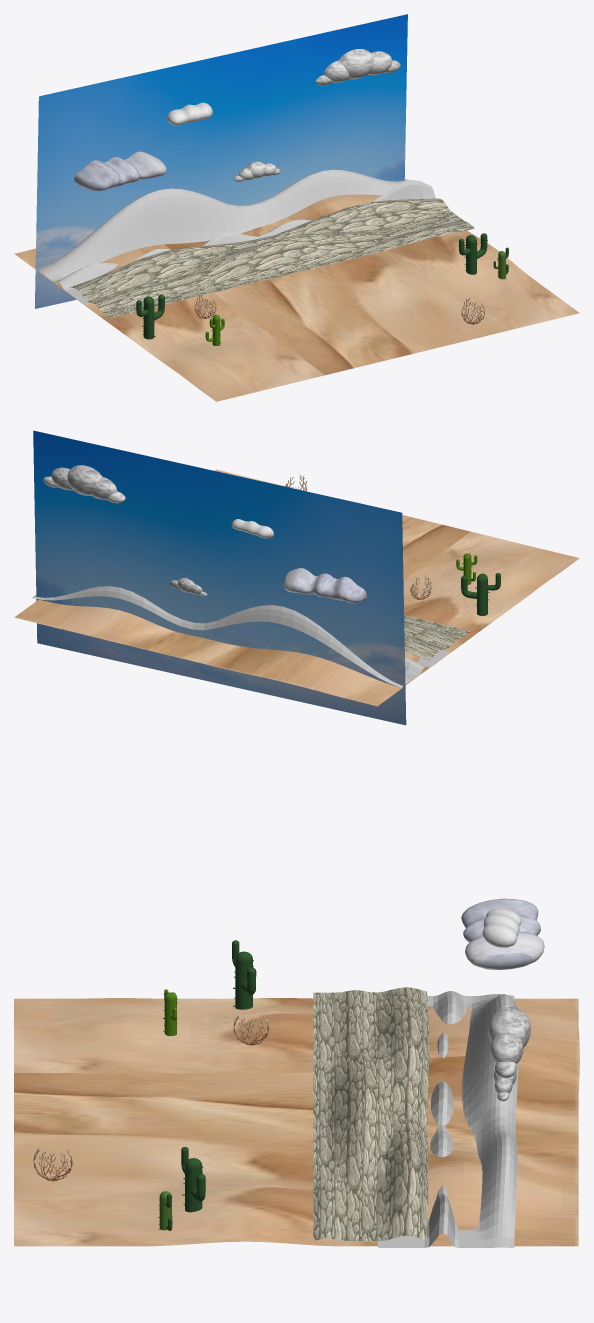
Rendered from desierto protipo. version final sin animaciones.fbx.
3 views of the same model, one above another, from view 1: azimuth 30°, elevation 25°; view 2: azimuth 150°, elevation 25°; view 3: azimuth 270°, elevation 25° (orthographic). The views are drawn at different scales.
Parts seen in each view (by area): view 1: Plane.001, Plane, Plane.003, Plane.002, Mball.010, Sphere.002, NurbsPath.002, NurbsPath.007, Mball.008, Sphere.001; view 2: Plane.001, Plane, Plane.002, Mball.010, Plane.003, Sphere.002, NurbsPath.002, Mball.008, Sphere.001; view 3: Plane, Plane.003, Plane.002, Mball.010, Sphere.002, NurbsPath.002, Mball.008, NurbsPath.007.
Boxes of the visible parts, box(x1,y1,x2,y2) form: Plane.001: box(35, 14, 407, 308); Plane: box(14, 194, 579, 401); Plane.003: box(70, 198, 474, 317); Plane.002: box(38, 169, 435, 304); Mball.010: box(74, 151, 166, 191); Sphere.002: box(315, 49, 400, 85); NurbsPath.002: box(135, 294, 165, 339); NurbsPath.007: box(458, 233, 487, 274); Mball.008: box(167, 102, 212, 125); Sphere.001: box(233, 161, 280, 181); Plane.001: box(33, 430, 406, 725); Plane: box(14, 469, 579, 706); Plane.002: box(32, 586, 449, 687); Mball.010: box(283, 568, 366, 603); Plane.003: box(404, 615, 471, 660); Sphere.002: box(43, 465, 125, 503); NurbsPath.002: box(461, 573, 500, 615); Mball.008: box(231, 519, 273, 538); Sphere.001: box(169, 578, 207, 596); Plane: box(14, 998, 579, 1246); Plane.003: box(313, 987, 429, 1240); Plane.002: box(378, 991, 518, 1247); Mball.010: box(461, 898, 544, 969); Sphere.002: box(488, 1007, 530, 1078); NurbsPath.002: box(232, 940, 256, 1009); Mball.008: box(482, 908, 521, 947); NurbsPath.007: box(181, 1147, 205, 1212).
Bounding box in the file's own units: 1726 × 970 × 1625.
